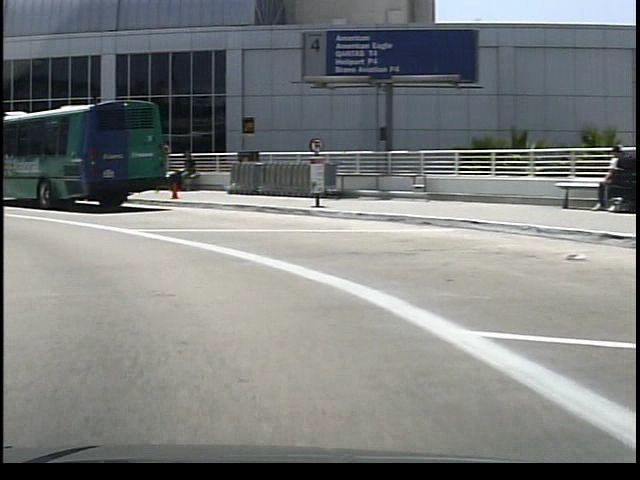person: (168, 146, 197, 194)
